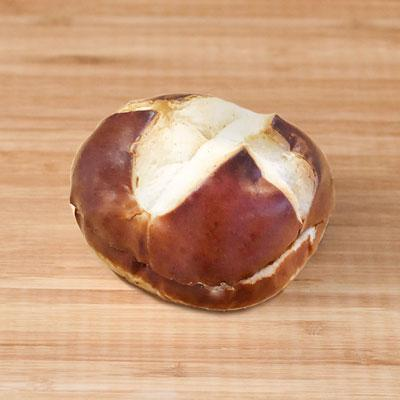hamburger_buns: (64, 61, 350, 341)
